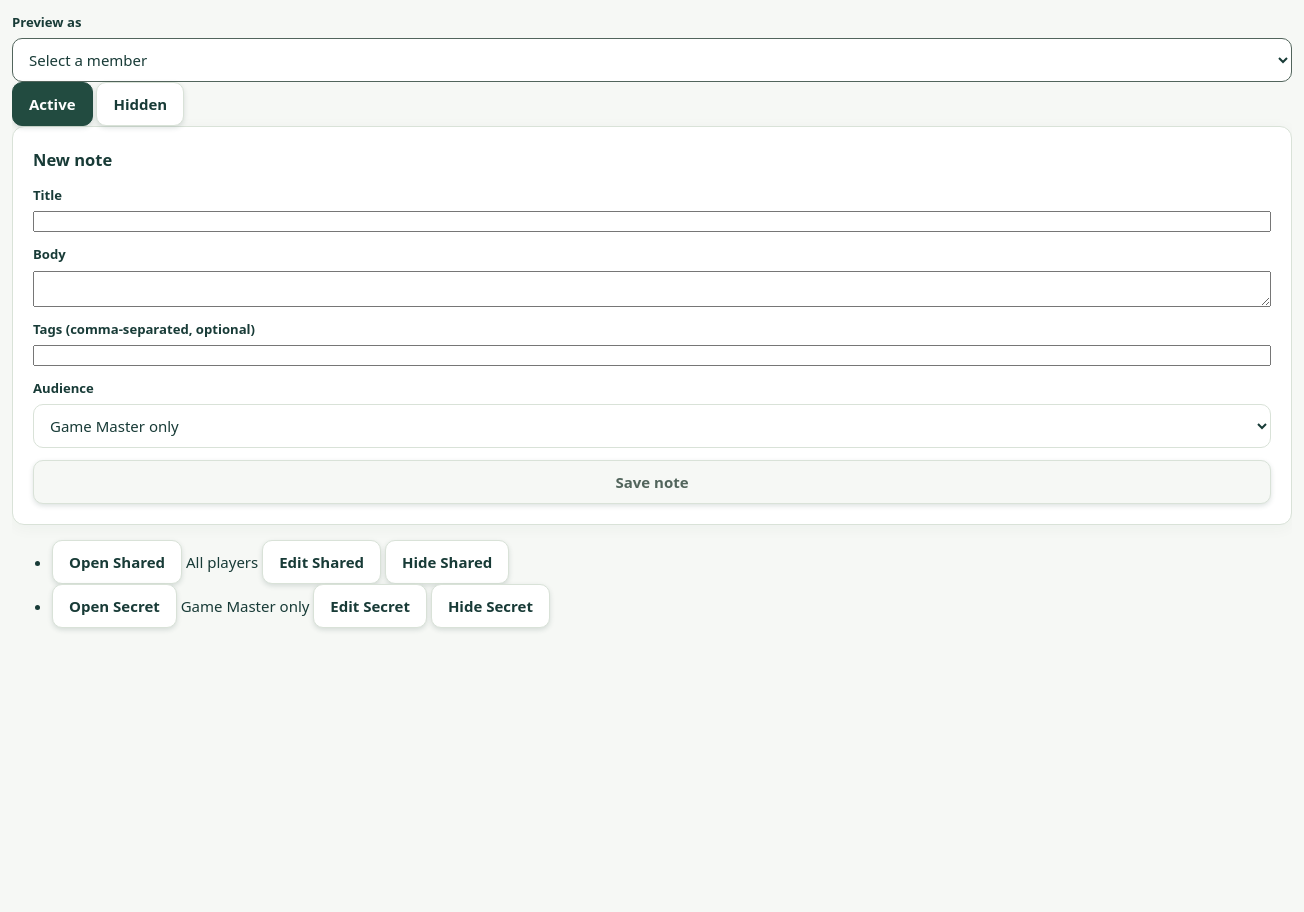
Test: CampaignContentTab preview-as-member picker › enters preview on select: banner, preview rows, no mutation affordances
Check: the button "Open Secret" is shown, box left=52, top=584, right=177, bottom=628
Select "player-1" in the dropdown labelled "Preview as" at (652, 60), box left=12, top=38, right=1292, bottom=82
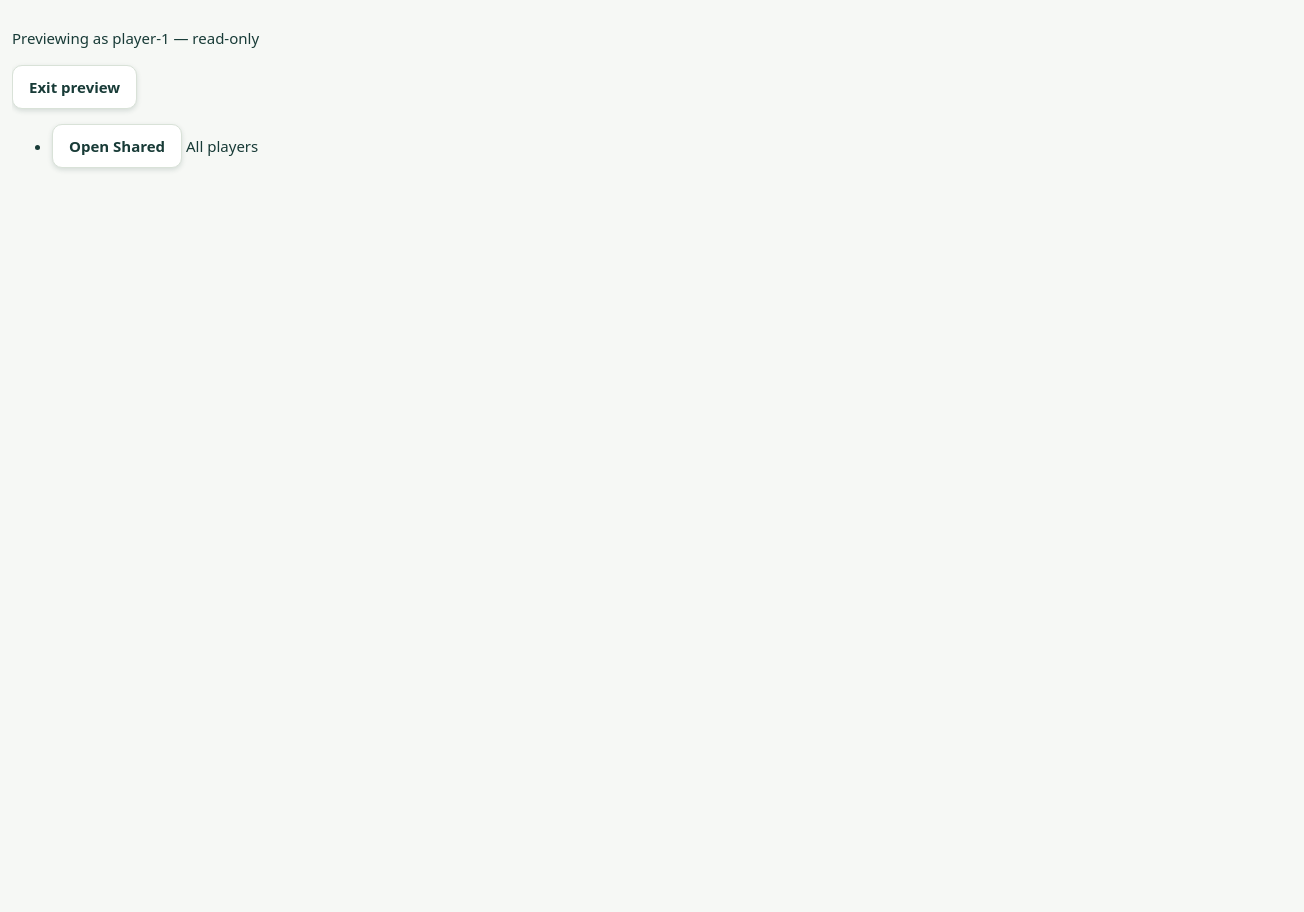
Check: the text "Previewing as player-1 — read-only" is shown, box left=12, top=28, right=259, bottom=48
Check: the button "Open Secret" is gone
Check: the heading "New note" is gone
